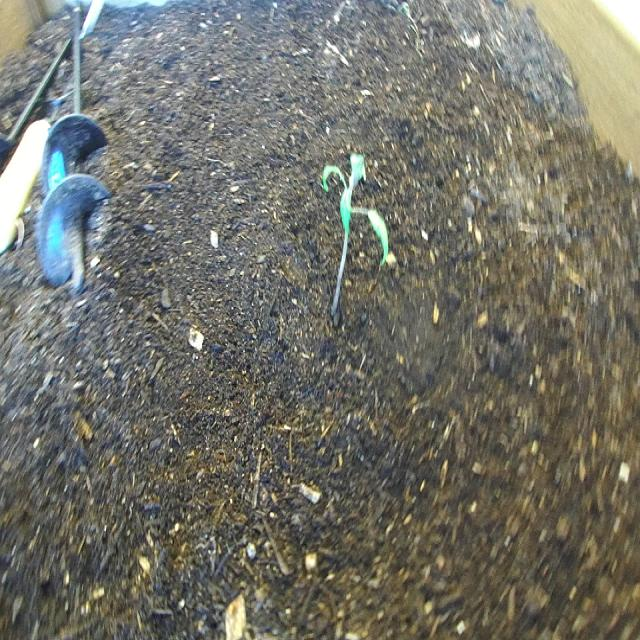Healthy: (319, 149, 391, 323)
